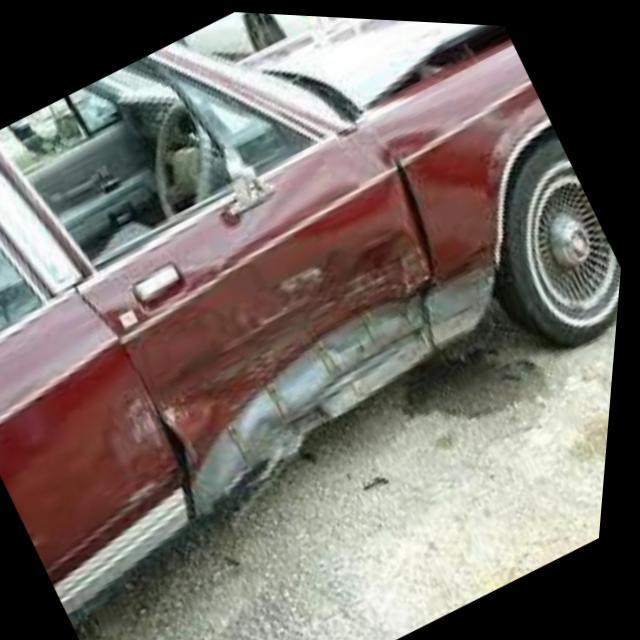dent: (88, 20, 515, 513)
